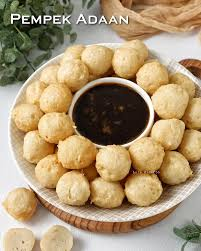Pempek adaan: (53, 134, 97, 169), (53, 170, 97, 204), (123, 173, 166, 206), (152, 84, 192, 117), (131, 138, 168, 172), (90, 175, 127, 208), (109, 45, 143, 80), (136, 59, 172, 92), (41, 81, 75, 115), (33, 152, 64, 188), (59, 56, 90, 92), (38, 113, 76, 142), (6, 187, 40, 219), (163, 151, 193, 187), (23, 128, 53, 162), (99, 143, 128, 178), (149, 119, 185, 147), (12, 102, 42, 133), (82, 44, 112, 75), (2, 226, 39, 251), (41, 224, 73, 251), (22, 79, 48, 102), (39, 61, 63, 84), (172, 73, 195, 97)
